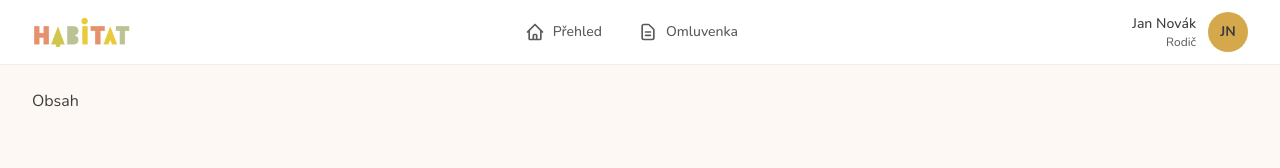
AppShell › shows the calendar version to PARENT users
Click the button with aria-label "Otevřít uživatelské menu": (1228, 32) top-left (1208, 12), bottom-right (1248, 52)
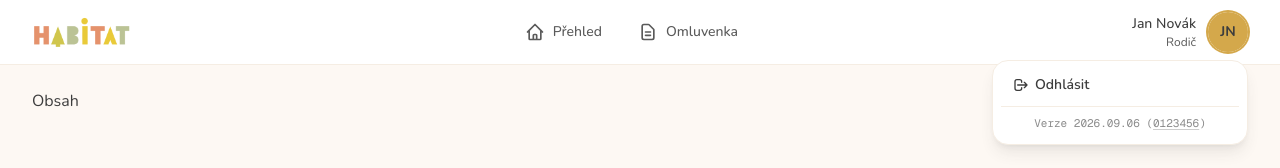
Now the text "Verze 2026.09.06 ( 0123456 )" is shown, box top-left (1001, 106), bottom-right (1239, 136)
